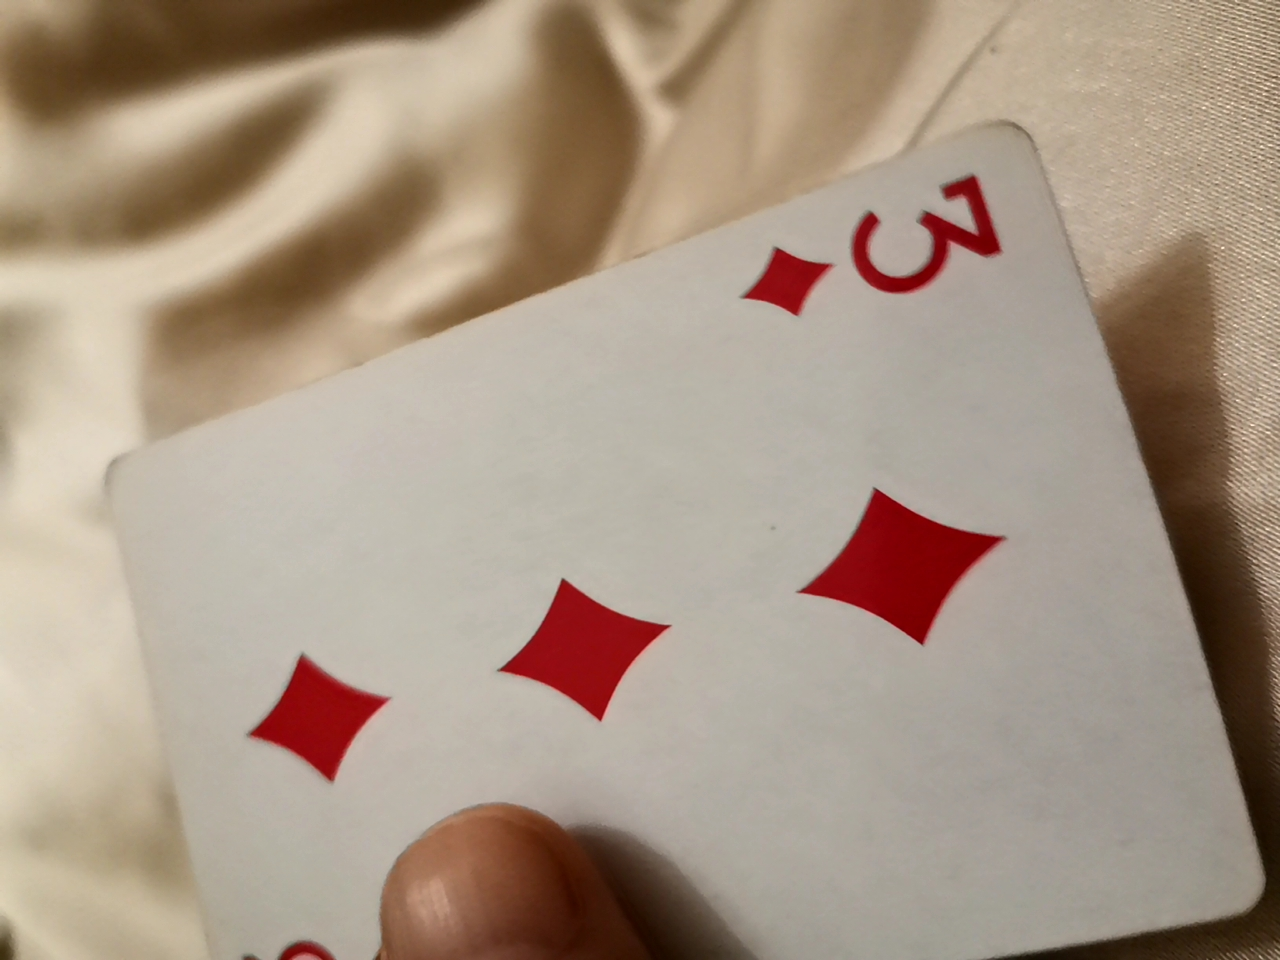fk 3: (107, 143, 1270, 951)
